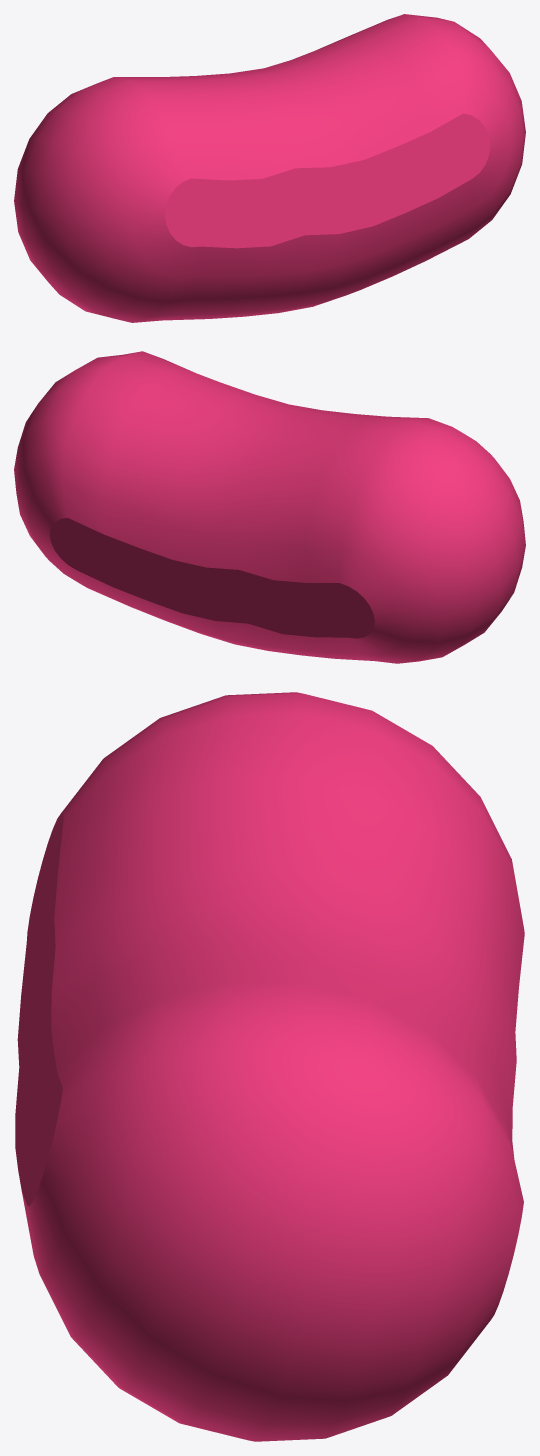
The model's file is jelly bean 1.FBX.
The picture shows the model from 3 angles, top to bottom: view 1: azimuth 30°, elevation 25°; view 2: azimuth 150°, elevation 25°; view 3: azimuth 270°, elevation 25°; orthographic projection. The views are drawn at different scales.
Visible parts, largest first — view 1: Sphere001; view 2: Sphere001; view 3: Sphere001.
Part boxes in pixels (x1=…): Sphere001: x1=14, y1=14, x2=525, y2=322; Sphere001: x1=14, y1=351, x2=525, y2=663; Sphere001: x1=15, y1=692, x2=524, y2=1441.
Size of the model in its own units: 11.29 by 5.54 by 5.24.
